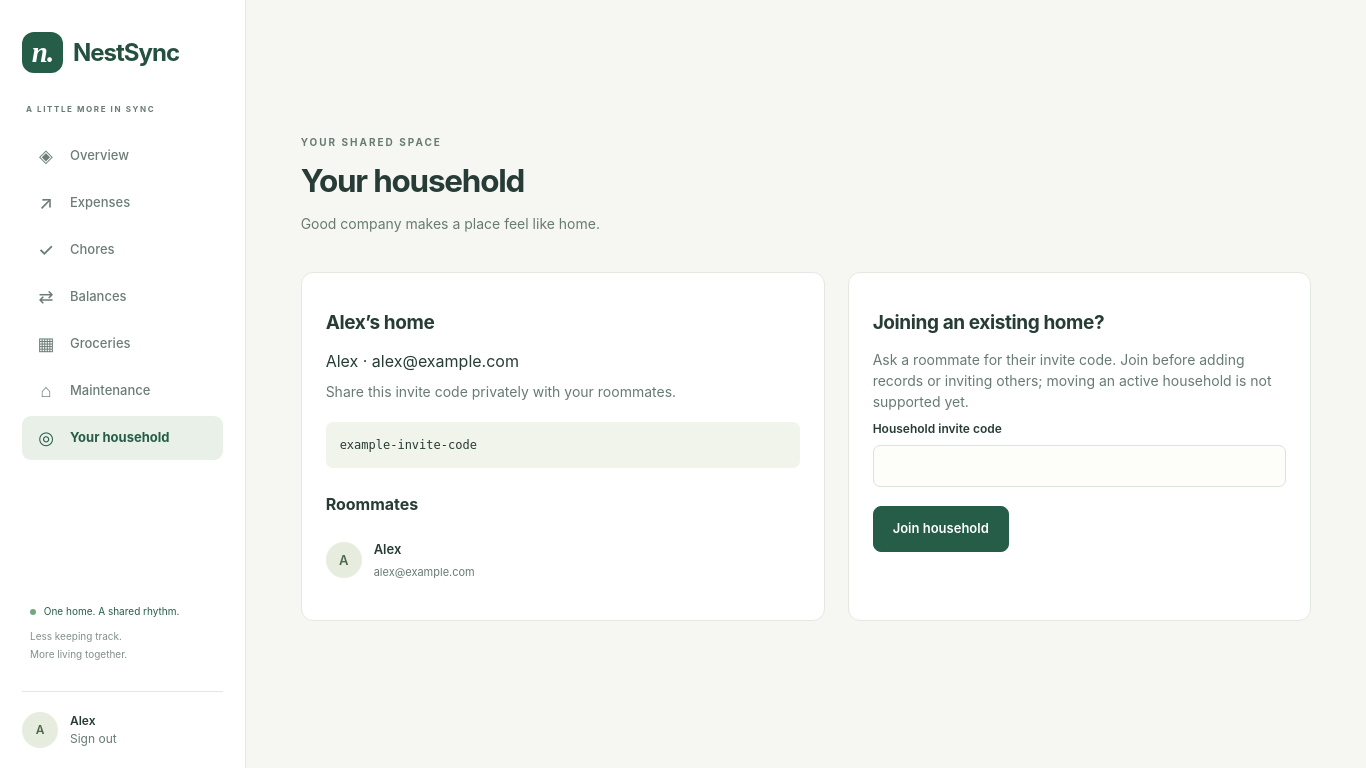
Test: explains a rejected household change
Step 1. Type "new-code" into the field labelled "Household invite code" → (1079, 466), box [873,445,1286,487]
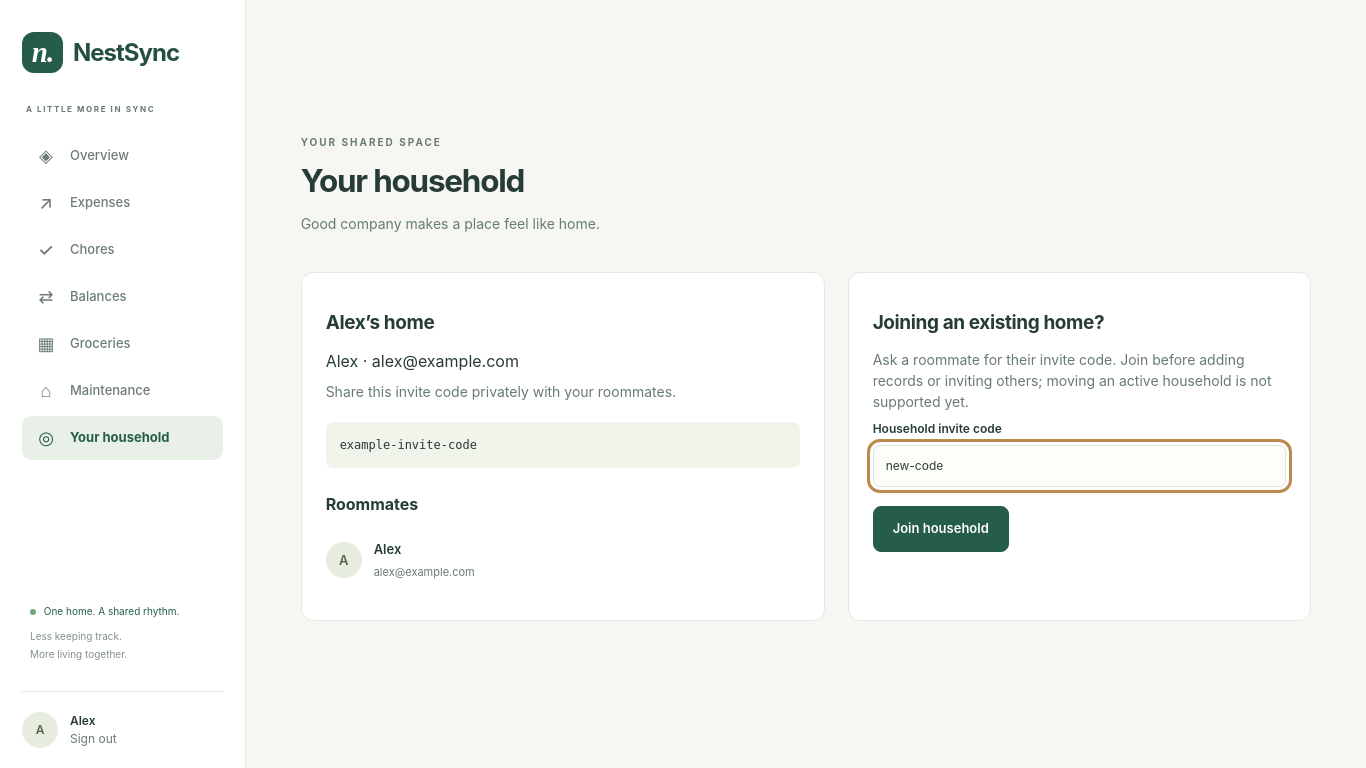
Step 2. Click the button "Join household" → (941, 529), box [873,506,1009,552]
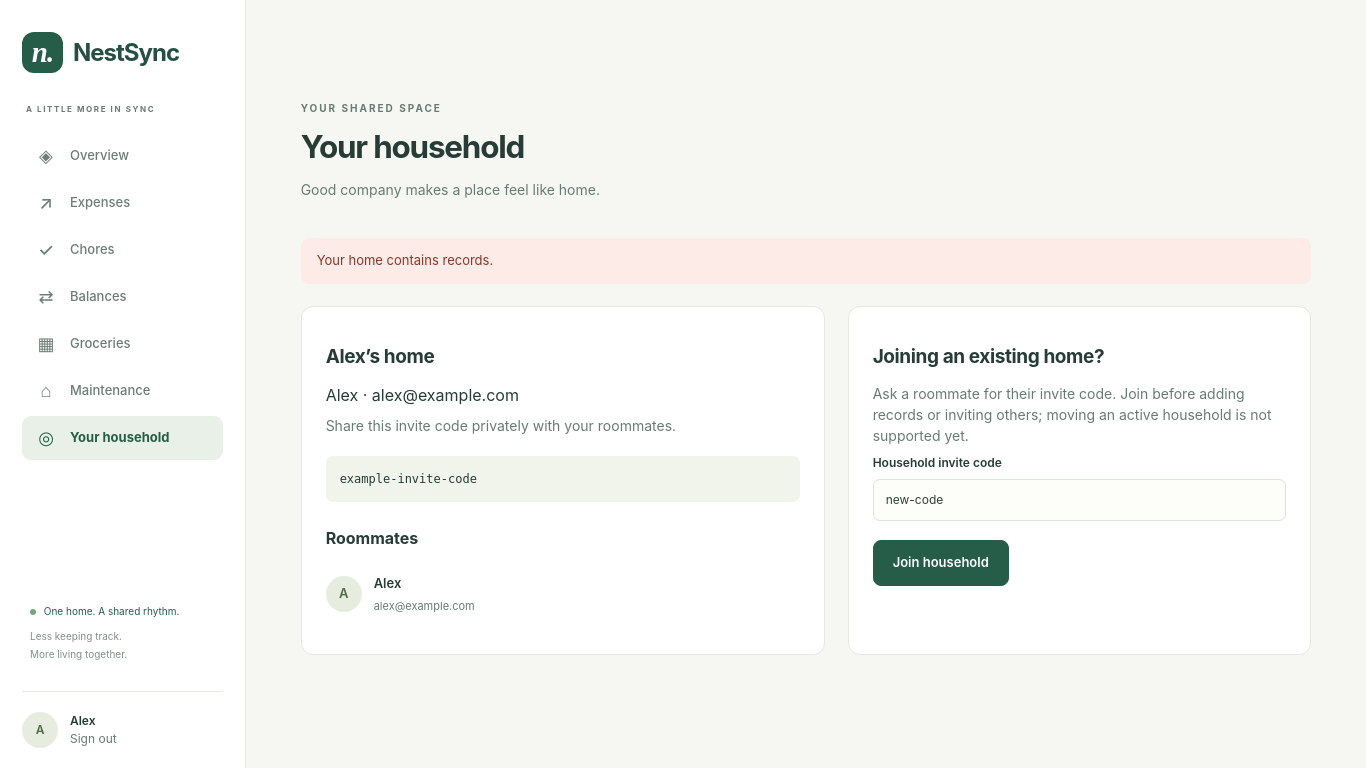
Expected: the message reads "Your home contains records.", [317,252,493,268]
